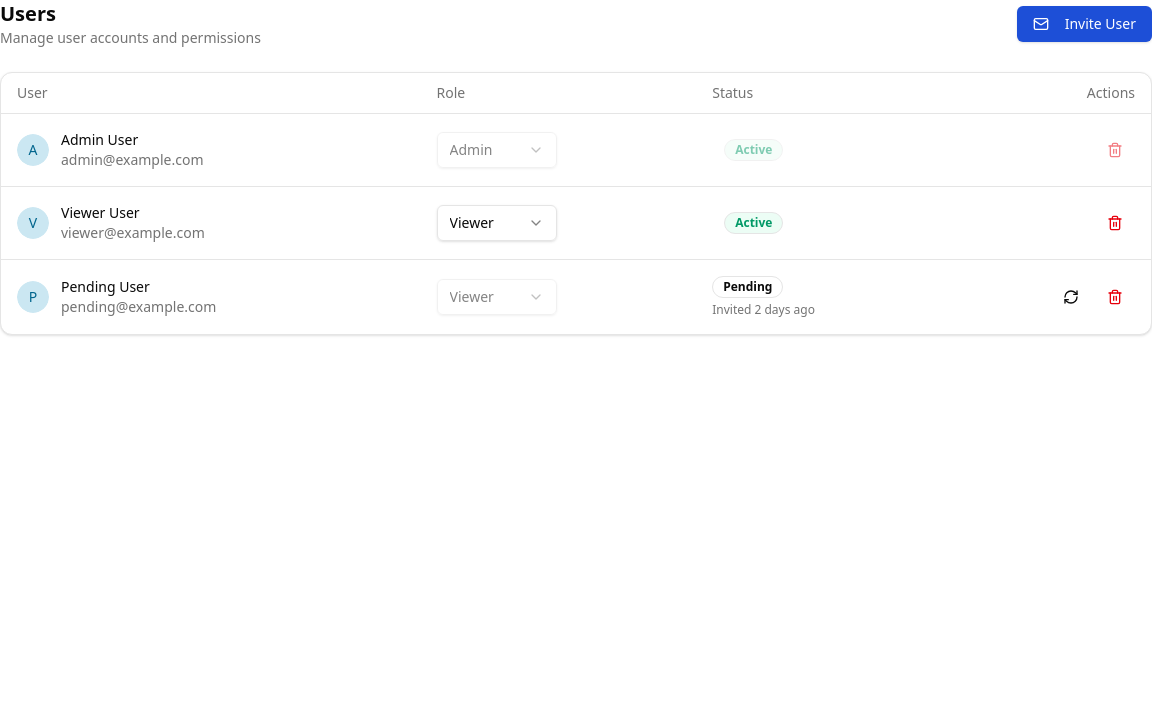
Scenario: Users Page › opens add user modal when button clicked
Click the button "Invite User".
click(1084, 24)  # box [1017,6,1151,42]
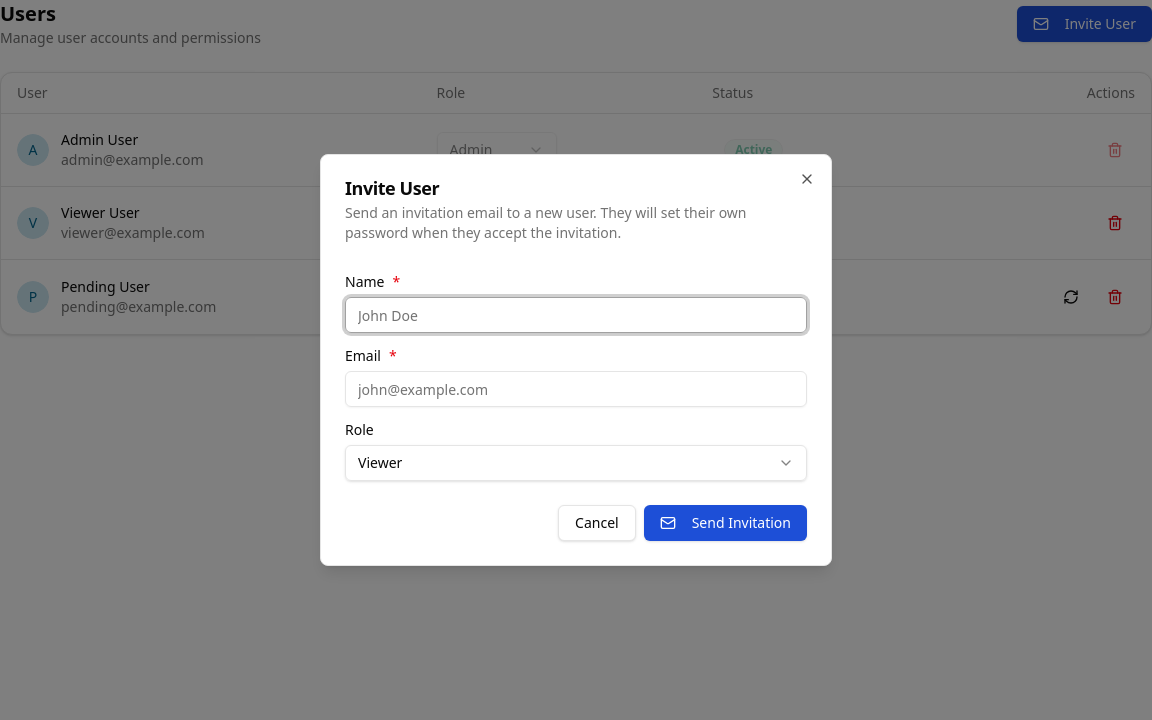
Expected: the field labelled "Name *" is shown, [345,297,807,333]
Expected: the field labelled "Email *" is shown, [345,371,807,407]
